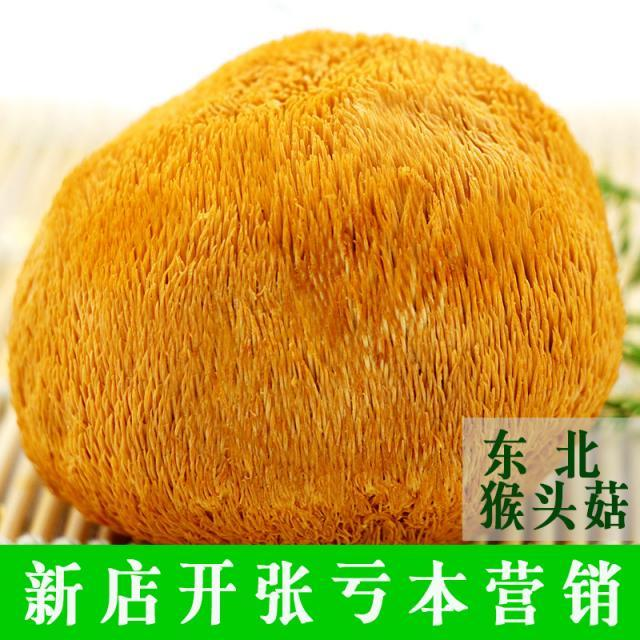Hericium erinaceus: (9, 31, 621, 546)
